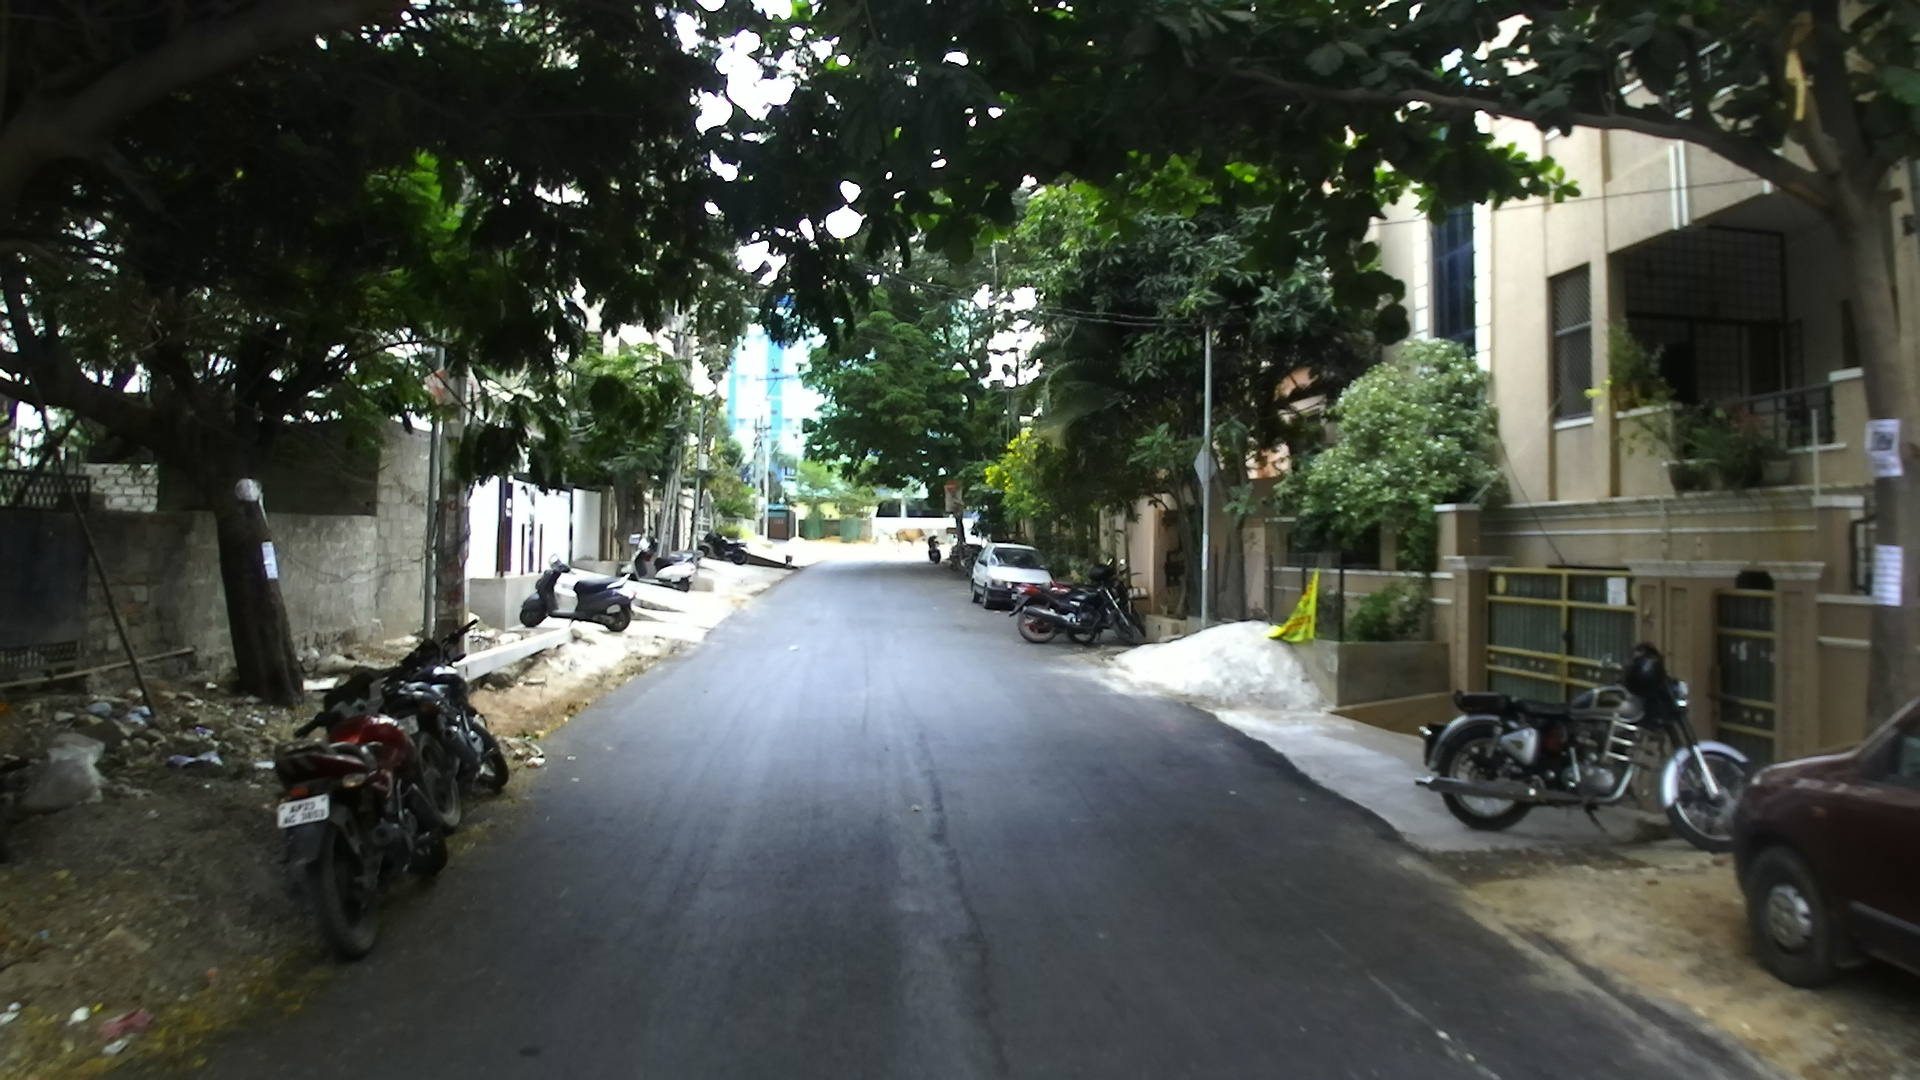vehicle: (1729, 684, 1919, 992), (269, 700, 451, 963), (367, 618, 513, 822), (518, 564, 640, 634), (969, 543, 1054, 607)
